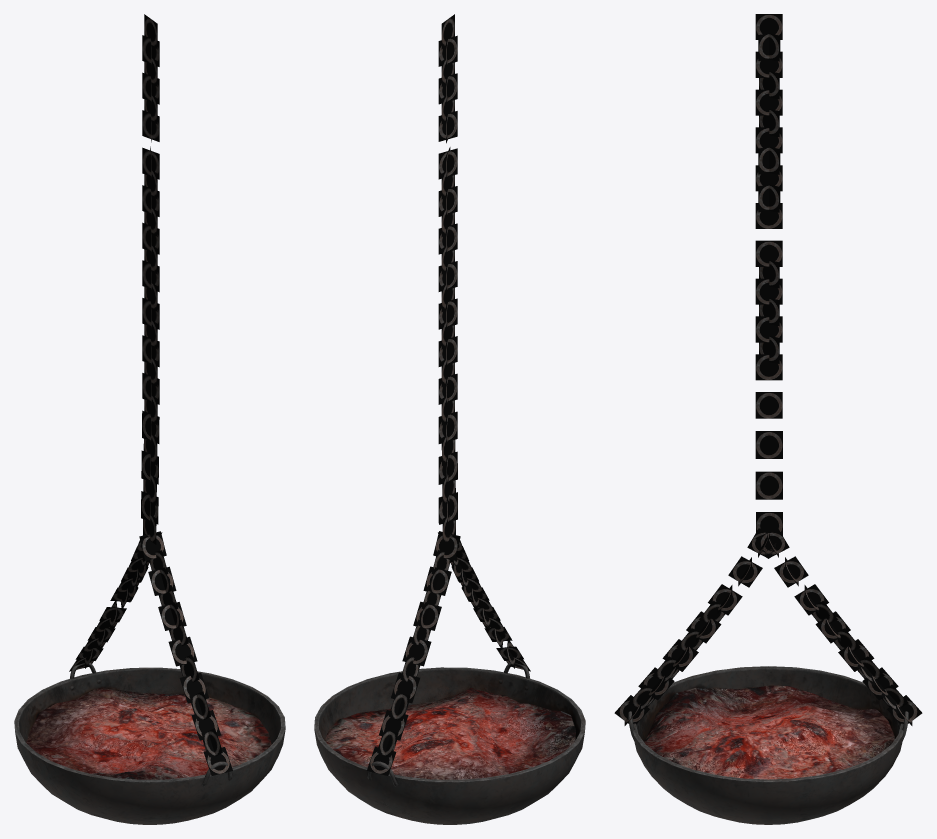
The model's file is SM_brasier.fbx.
The picture shows the model from 3 angles, left to right: view 1: azimuth 30°, elevation 25°; view 2: azimuth 150°, elevation 25°; view 3: azimuth 270°, elevation 25°; orthographic projection.
Visible parts, largest first — view 1: SM_brasier_LOD0; view 2: SM_brasier_LOD0; view 3: SM_brasier_LOD0.
Boxes of the visible parts, box(x1,y1,x2,y2) form: SM_brasier_LOD0: box(14, 14, 285, 824); SM_brasier_LOD0: box(314, 14, 585, 824); SM_brasier_LOD0: box(614, 14, 922, 824).
Bounding box in the file's own units: 52 × 58.48 × 166.
